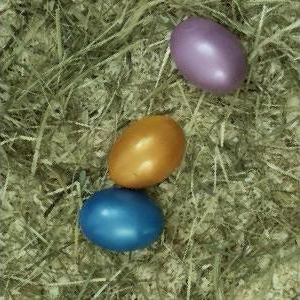egg: (171, 16, 248, 95), (108, 116, 185, 188), (80, 189, 165, 251)
